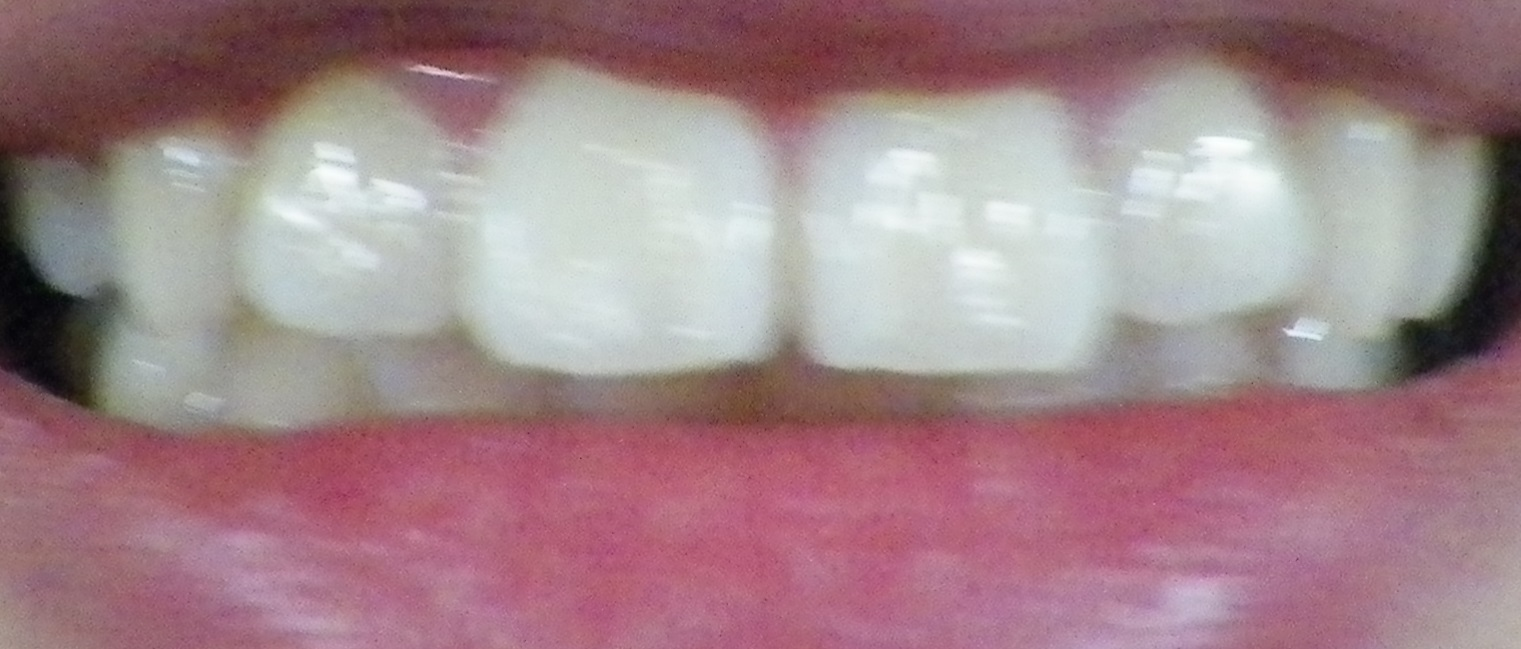boca: (20, 59, 1487, 422)
